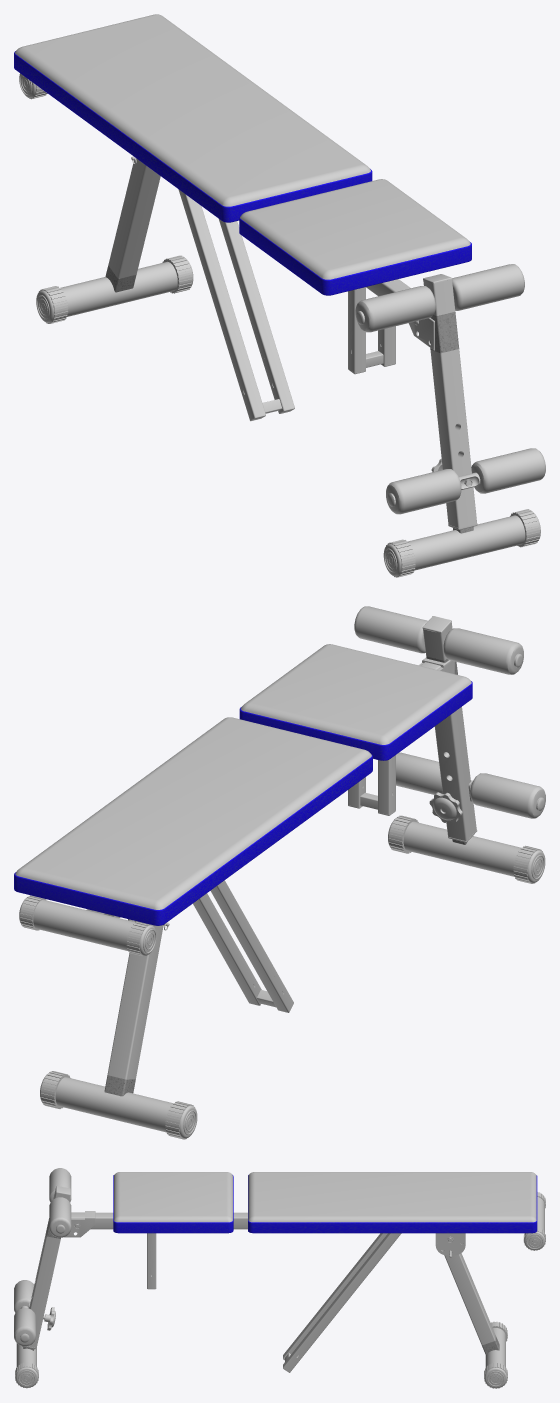
File: Bench.fbx
The picture shows the model from 3 angles, top to bottom: view 1: azimuth 30°, elevation 25°; view 2: azimuth 150°, elevation 25°; view 3: azimuth 270°, elevation 25°; orthographic projection. The views are drawn at different scales.
Visible parts, largest first — view 1: Bench; view 2: Bench; view 3: Bench.
Part boxes in pixels (bbox=[...]): Bench: bbox=[14, 14, 545, 577]; Bench: bbox=[14, 606, 545, 1139]; Bench: bbox=[14, 1168, 545, 1388].
Bounding box in the file's own units: 0.6434 × 2.73 × 1.01.
